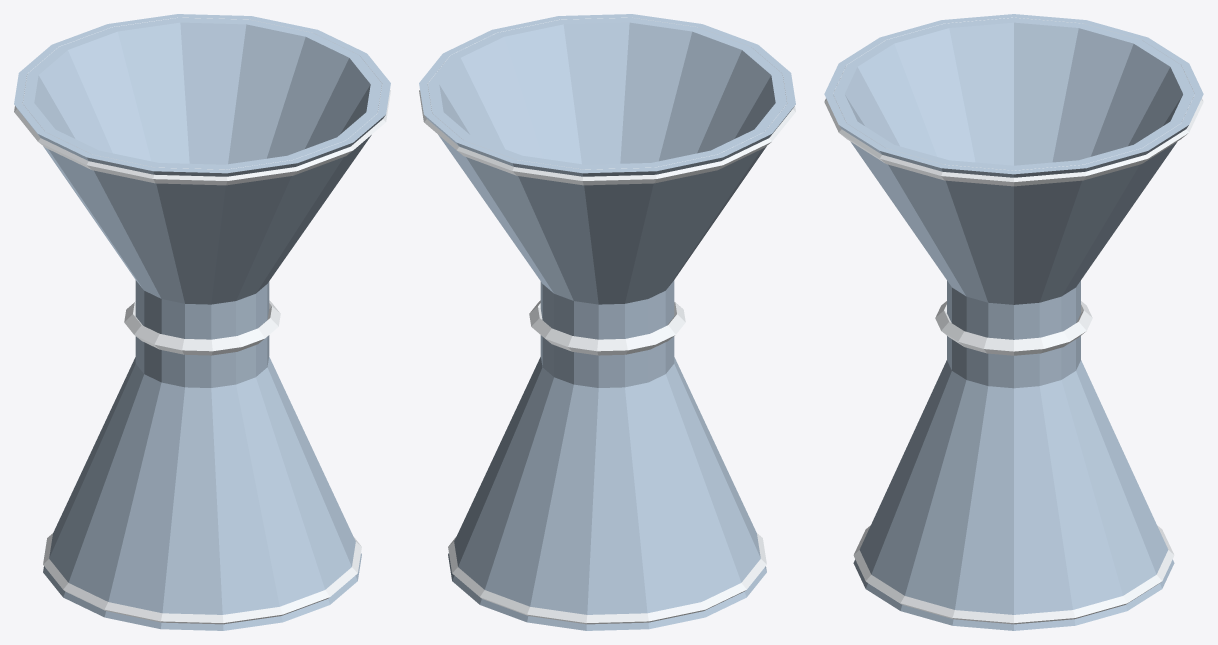
The model's file is jigger_small.glb.
3 views of the same model, side by side, from view 1: azimuth 30°, elevation 25°; view 2: azimuth 150°, elevation 25°; view 3: azimuth 270°, elevation 25° (orthographic).
Visible parts, largest first — view 1: UpperCup, LowerCup, Waist, UpperRim, LowerRim, WaistBand; view 2: UpperCup, LowerCup, Waist, UpperRim, LowerRim, WaistBand; view 3: UpperCup, LowerCup, Waist, UpperRim, LowerRim, WaistBand.
Part boxes in pixels (box(x1,y1,x2,y2)): UpperCup: box(14, 14, 390, 304); LowerCup: box(43, 356, 361, 630); Waist: box(135, 280, 269, 387); UpperRim: box(14, 17, 390, 185); LowerRim: box(43, 533, 361, 624); WaistBand: box(124, 300, 280, 355); UpperCup: box(419, 14, 795, 304); LowerCup: box(448, 356, 766, 630); Waist: box(540, 280, 674, 387); UpperRim: box(419, 17, 795, 185); LowerRim: box(448, 533, 766, 624); WaistBand: box(529, 300, 685, 355); UpperCup: box(824, 14, 1203, 304); LowerCup: box(853, 360, 1174, 630); Waist: box(947, 281, 1080, 388); UpperRim: box(824, 17, 1203, 186); LowerRim: box(853, 525, 1174, 624); WaistBand: box(935, 301, 1092, 355).
Bounding box in the file's own units: 0.11 × 0.1501 × 0.11.
